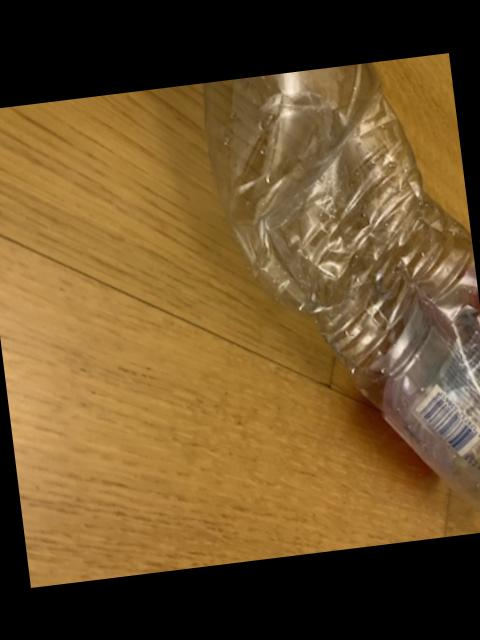plastic: (206, 62, 480, 508)
